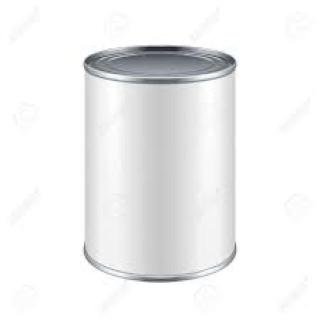Anorganik: (75, 38, 251, 288)
